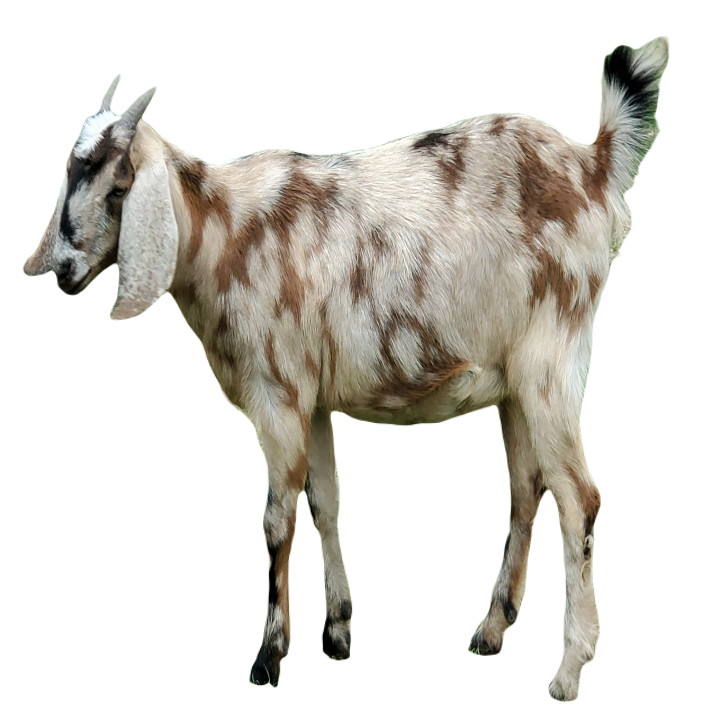Goat: (26, 36, 669, 701)
